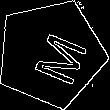M_NW: (18, 22, 84, 85)
